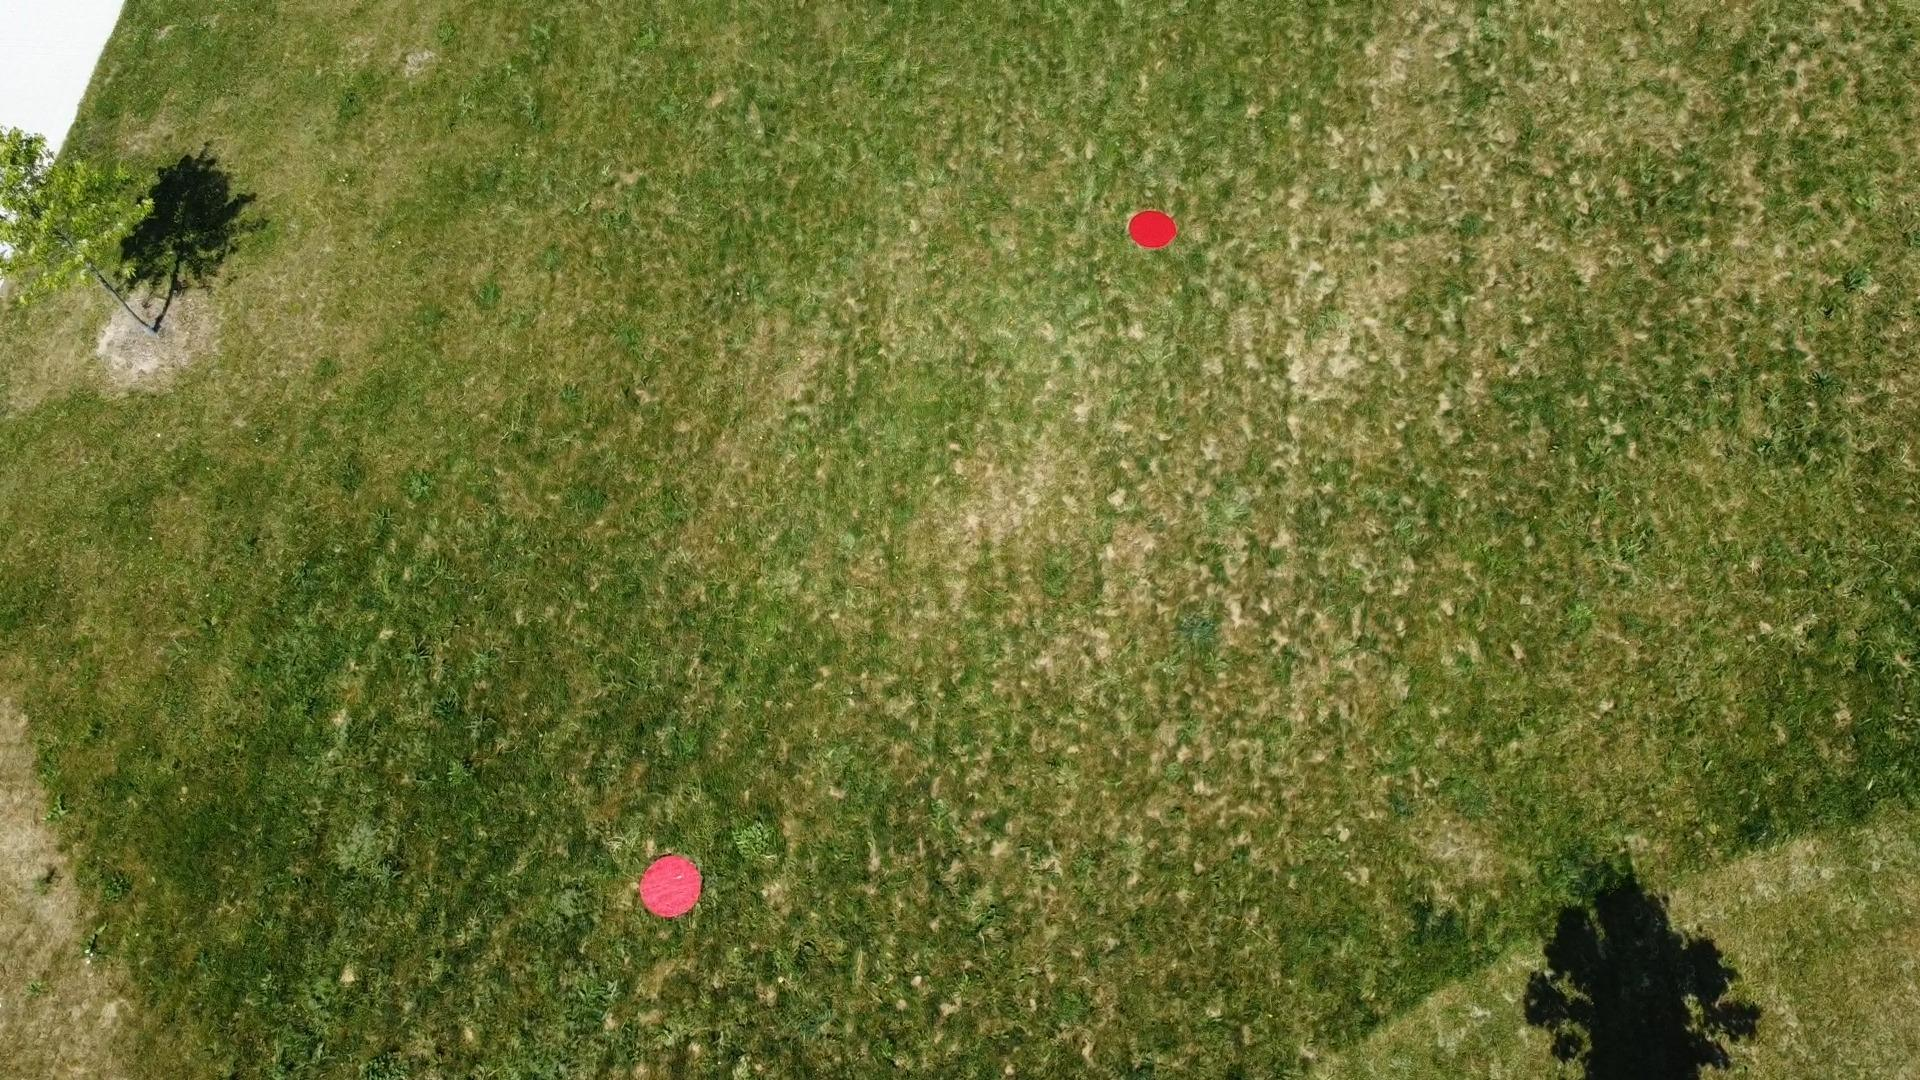Red: (637, 851, 705, 922), (1126, 207, 1180, 251)
